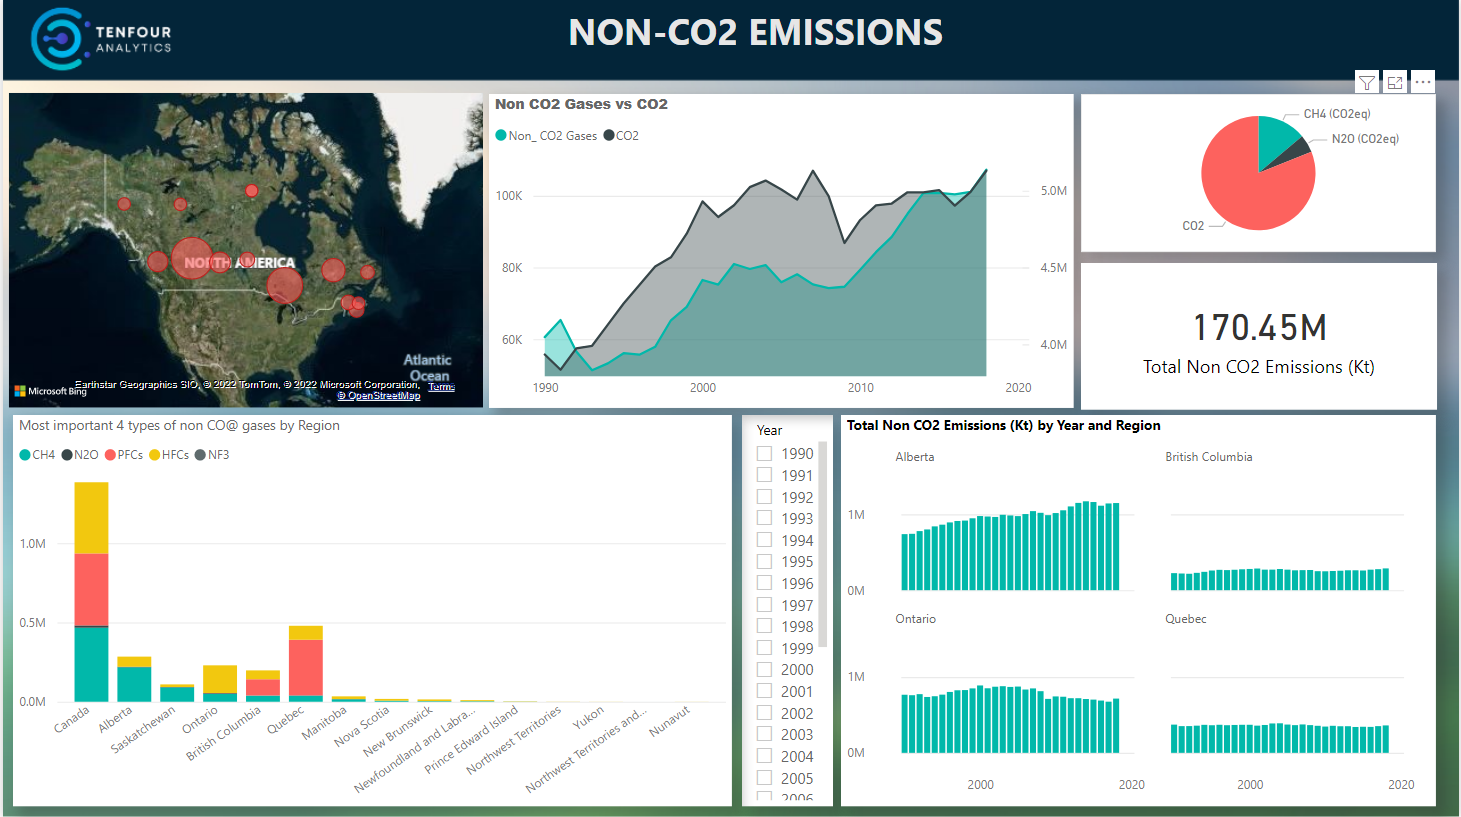

Layout of this report page (visuals, bound fields, positions):
{"tool":"powerbi","page":{"name":"General","canvas":[1280,720],"ordinal":0},"visuals":[{"type":"slicer","fields":{"Values":["GHG_IPCC_Can_Prov_Terr.Year"]},"box":[649.6,365.4,80,343.9],"z":0},{"type":"areaChart","title":"Non CO2 Gases vs CO2","fields":{"Category":["GHG_IPCC_Can_Prov_Terr.Year"],"Y":["Sum(GHG_IPCC_Can_Prov_Terr.Non_ CO2 Gases)"],"Y2":["Sum(GHG_IPCC_Can_Prov_Terr.CO2)"]},"box":[427.1,83.8,513.6,276.1],"z":1000},{"type":"columnChart","title":"Most important 4 types of non CO@ gases by Region","fields":{"Category":["GHG_IPCC_Can_Prov_Terr.Region"],"Y":["Sum(GHG_IPCC_Can_Prov_Terr.CH4)","Sum(GHG_IPCC_Can_Prov_Terr.N2O)","Sum(GHG_IPCC_Can_Prov_Terr.PFCs)","Sum(GHG_IPCC_Can_Prov_Terr.HFCs)","Sum(GHG_IPCC_Can_Prov_Terr.NF3)"]},"box":[8.4,365.4,631.6,343.9],"z":2000},{"type":"pieChart","fields":{"Y":["Sum(GHG_IPCC_Can_Prov_Terr.CH4 (CO2eq))","Sum(GHG_IPCC_Can_Prov_Terr.N2O (CO2eq))","Sum(GHG_IPCC_Can_Prov_Terr.CO2)"]},"box":[947.6,83.8,311.8,138.7],"z":3000},{"type":"card","fields":{"Values":["Sum(GHG_IPCC_Can_Prov_Terr.Total CO2eq)"]},"box":[947.6,232.1,313.1,129.1],"z":4000},{"type":"clusteredColumnChart","fields":{"Category":["GHG_IPCC_Can_Prov_Terr.Year"],"Y":["Sum(GHG_IPCC_Can_Prov_Terr.Total CO2eq)"],"Rows":["GHG_IPCC_Can_Prov_Terr.Region"]},"box":[736.7,365.4,523,343.9],"z":5000},{"type":"map","fields":{"Category":["GHG_IPCC_Can_Prov_Terr.Region"],"Size":["Sum(GHG_IPCC_Can_Prov_Terr.Total CO2eq)"]},"box":[0,77.6,427.5,286.6],"z":6000},{"type":"textbox","box":[491.7,0,392.8,60.4],"z":7000}]}

Visuals, with their boxes in screenshot pixels (x1, y1, x2, y2), scaled from the page's 1280x720 canvas onto the 1461x817 screenshot:
slicer - GHG_IPCC_Can_Prov_Terr.Year: x1=741, y1=415, x2=833, y2=805
"Non CO2 Gases vs CO2" areaChart: x1=487, y1=95, x2=1074, y2=408
"Most important 4 types of non CO@ gases by Region" columnChart: x1=10, y1=415, x2=730, y2=805
pieChart - Sum(GHG_IPCC_Can_Prov_Terr.CH4 (CO2eq)) x Sum(GHG_IPCC_Can_Prov_Terr.N2O (CO2eq)): x1=1082, y1=95, x2=1437, y2=252
card - Sum(GHG_IPCC_Can_Prov_Terr.Total CO2eq): x1=1082, y1=263, x2=1439, y2=410
clusteredColumnChart - GHG_IPCC_Can_Prov_Terr.Year x Sum(GHG_IPCC_Can_Prov_Terr.Total CO2eq): x1=841, y1=415, x2=1438, y2=805
map - GHG_IPCC_Can_Prov_Terr.Region x Sum(GHG_IPCC_Can_Prov_Terr.Total CO2eq): x1=0, y1=88, x2=488, y2=413
textbox: x1=561, y1=0, x2=1010, y2=69
